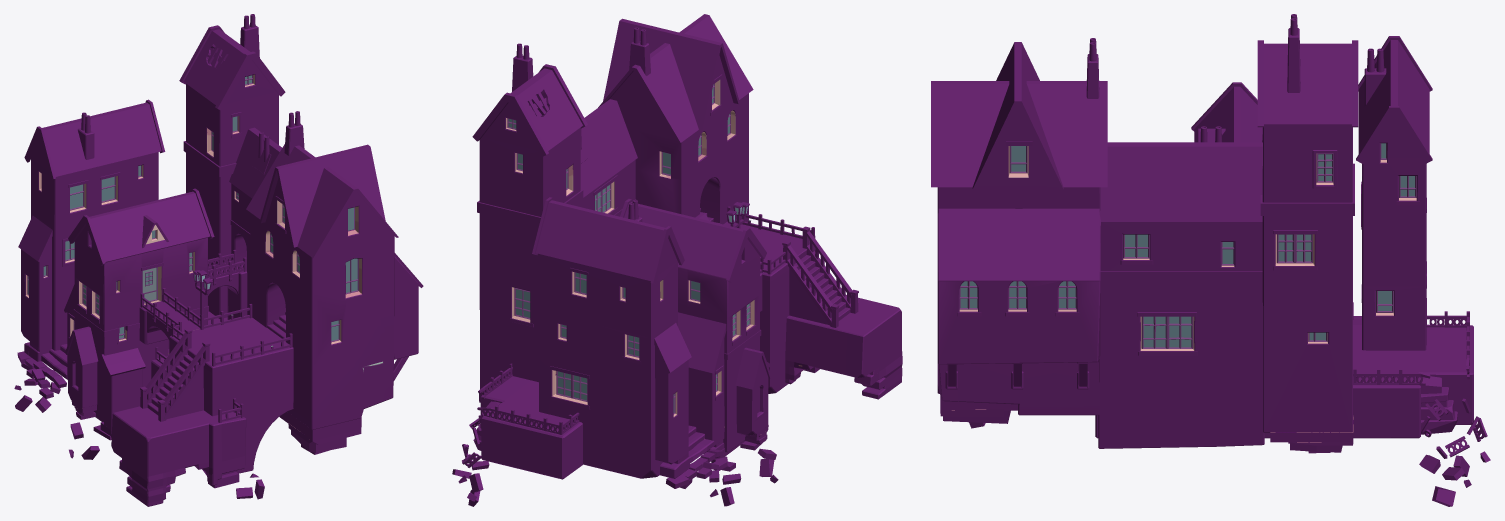
The model's file is Fantasy_town.fbx.
3 views of the same model, side by side, from view 1: azimuth 30°, elevation 25°; view 2: azimuth 150°, elevation 25°; view 3: azimuth 270°, elevation 25° (orthographic). The views are drawn at different scales.
Parts seen in each view (by area): view 1: Roof.001, Base.003, Base.007, Base.006, Base.001, Base.002, Base.005, Deco, Deco.001, Windows_and_doors, Bridge.001, Stones (+11 smaller); view 2: Roof.001, Base.006, Base.005, Base.003, Base.007, Base.001, Platform, Base.002, Deco.001, Windows_and_doors, Deco, Stones (+9 smaller); view 3: Roof.001, Base.004, Base.003, Base.005, Base.006, Platform, Windows_and_doors, Deco, Deco_wind, Deco_wind.001, Pipes.001, Stones.001 (+5 smaller).
Part boxes in pixels (box(x1,y1,x2,y2)): Roof.001: box(18, 25, 423, 376); Base.003: box(250, 178, 418, 429); Base.007: box(67, 226, 207, 430); Base.006: box(21, 137, 158, 361); Base.001: box(111, 406, 246, 506); Base.002: box(169, 317, 293, 475); Base.005: box(186, 60, 278, 318); Deco: box(140, 250, 292, 422); Deco.001: box(140, 328, 210, 421); Windows_and_doors: box(27, 75, 358, 342); Bridge.001: box(139, 263, 247, 344); Stones: box(14, 351, 264, 499); Roof.001: box(472, 14, 771, 389); Base.006: box(539, 238, 689, 478); Base.005: box(479, 102, 580, 389); Base.003: box(609, 55, 748, 224); Base.007: box(678, 239, 768, 452); Base.001: box(785, 295, 902, 399); Platform: box(480, 376, 582, 479); Base.002: box(723, 221, 815, 393); Deco.001: box(782, 226, 858, 327); Windows_and_doors: box(507, 83, 750, 414); Deco: box(462, 202, 815, 467); Stones: box(452, 448, 778, 506); Roof.001: box(931, 36, 1432, 281); Base.004: box(1098, 222, 1264, 448); Base.003: box(937, 105, 1100, 415); Base.005: box(1262, 125, 1352, 432); Base.006: box(1362, 115, 1426, 350); Platform: box(1095, 319, 1473, 438); Windows_and_doors: box(959, 143, 1416, 348); Deco: box(1353, 311, 1487, 458); Deco_wind: box(957, 134, 1426, 355); Deco_wind.001: box(1100, 163, 1354, 277); Pipes.001: box(1086, 28, 1386, 106); Stones.001: box(940, 396, 1017, 423).
Size of the model in its own units: 2198 by 2998 by 3052.
